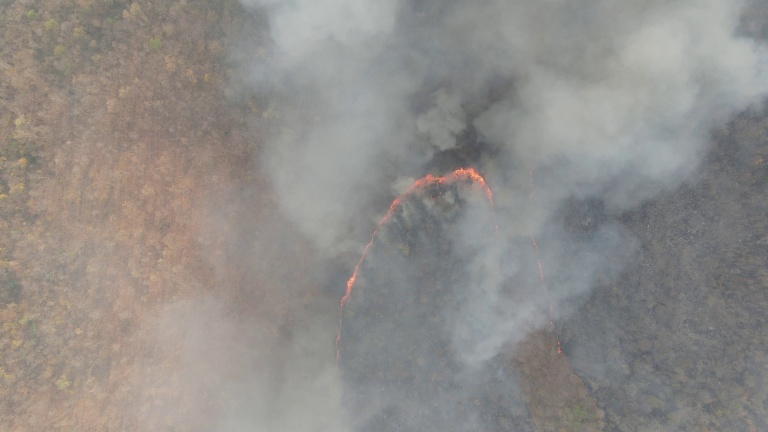fire: (332, 167, 498, 372), (526, 226, 568, 359)
smoke: (456, 1, 759, 352), (271, 1, 425, 228), (142, 298, 361, 432)
